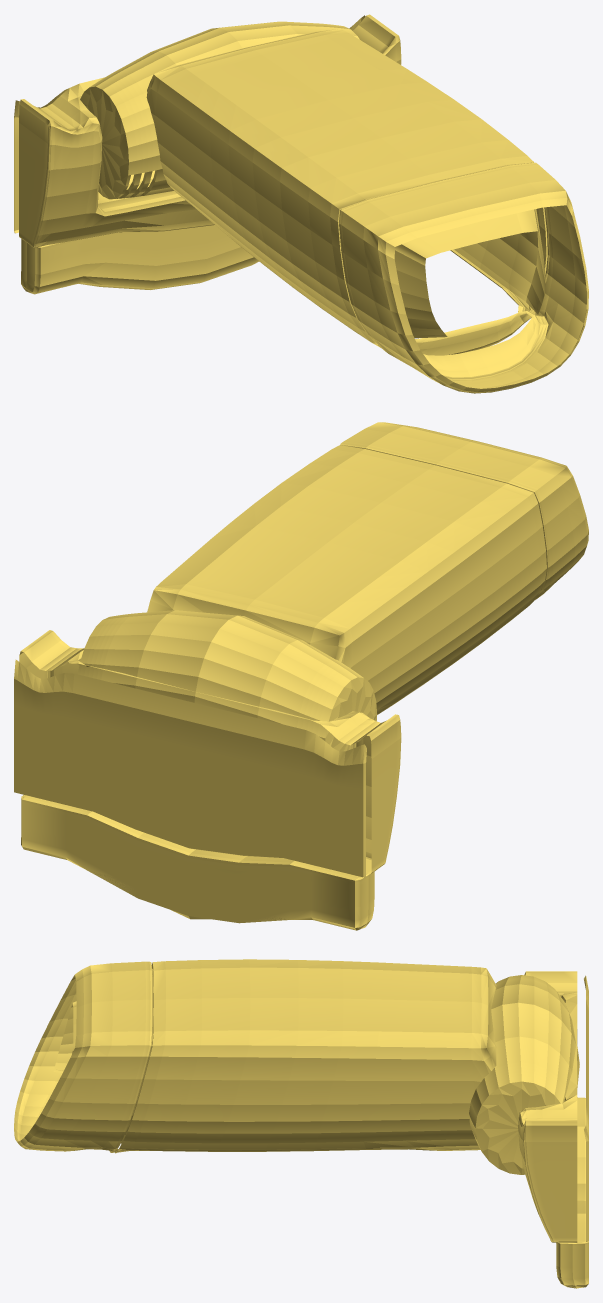
The model's file is MeshVacuumCleaner_1_0_GeomSubset_0.obj.
3 renders of one model, top to bottom at view 1: azimuth 30°, elevation 25°; view 2: azimuth 150°, elevation 25°; view 3: azimuth 270°, elevation 25°, orthographic. The views are drawn at different scales.
Visible parts, largest first — view 1: MeshVacuumCleaner_1_0_GeomSubset_0; view 2: MeshVacuumCleaner_1_0_GeomSubset_0; view 3: MeshVacuumCleaner_1_0_GeomSubset_0.
Boxes of the visible parts, x1,y1,x2,y2 form: MeshVacuumCleaner_1_0_GeomSubset_0: [14, 14, 588, 393]; MeshVacuumCleaner_1_0_GeomSubset_0: [14, 422, 588, 930]; MeshVacuumCleaner_1_0_GeomSubset_0: [14, 959, 588, 1288].
Size of the model in its own units: 0.3534 by 0.2651 by 0.5674.
